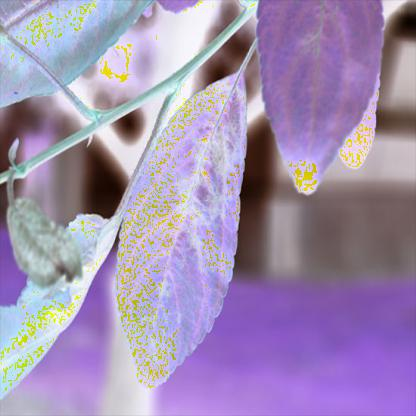Apple Scab Leaf: (120, 84, 259, 403), (250, 1, 390, 207)
